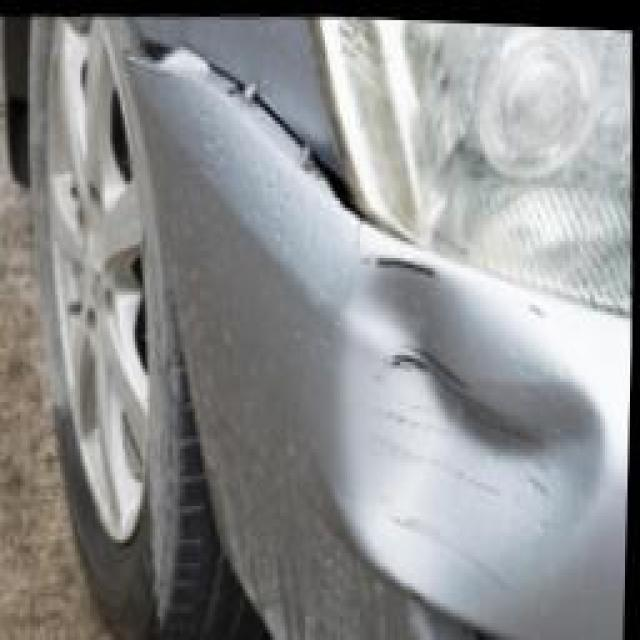Bumper: (255, 245, 633, 614)
